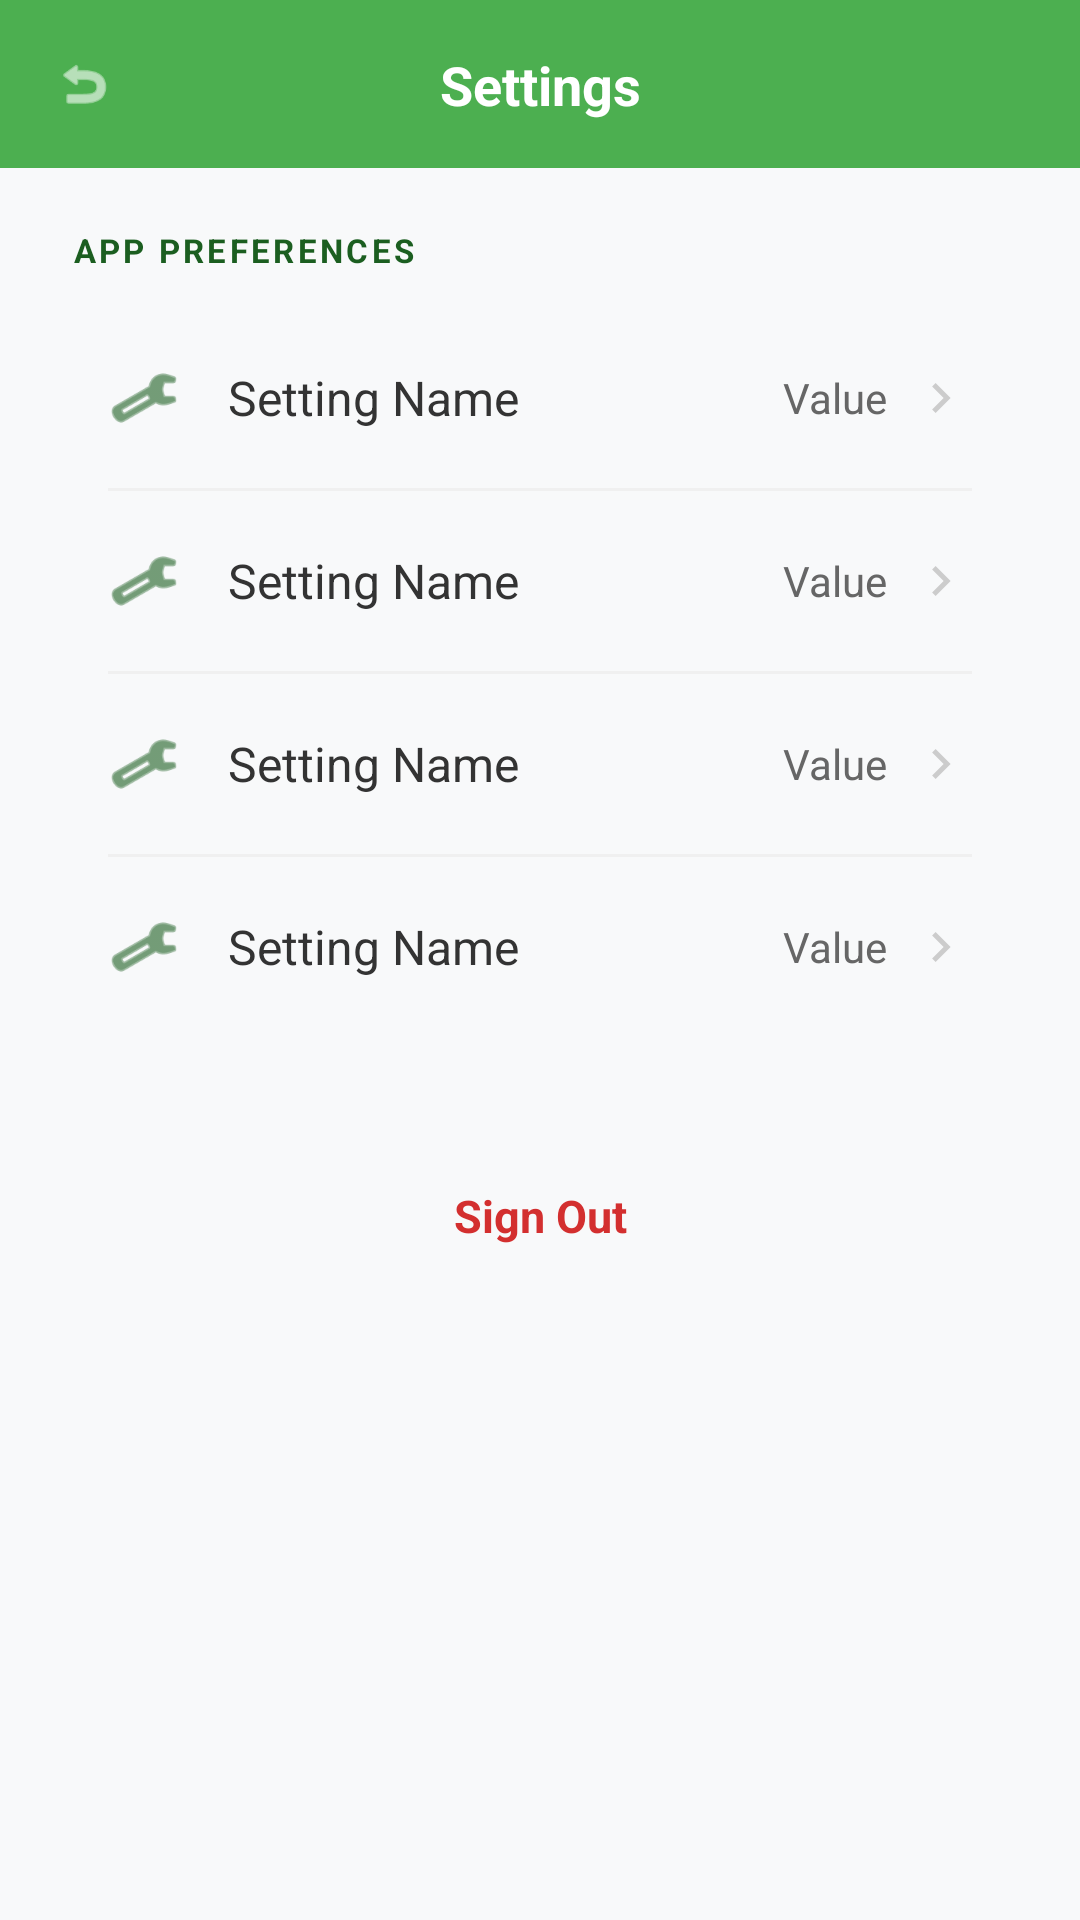

Icon bounding boxes for this 1080px×1920px phone screenshot, format region(x1, y1, x2, y2):
Go Back: region(63, 65, 106, 104)
keyboard arrow right: region(932, 383, 950, 413), region(932, 566, 950, 596), region(932, 749, 950, 779), region(932, 932, 950, 962)
manage: region(111, 373, 176, 423), region(111, 556, 176, 606), region(111, 739, 176, 789), region(111, 922, 176, 972)
